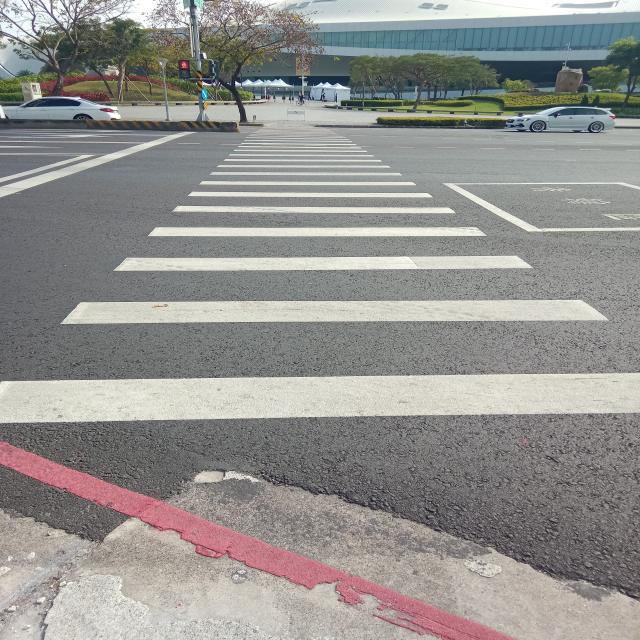zebra_crossing: (442, 280, 640, 413)
